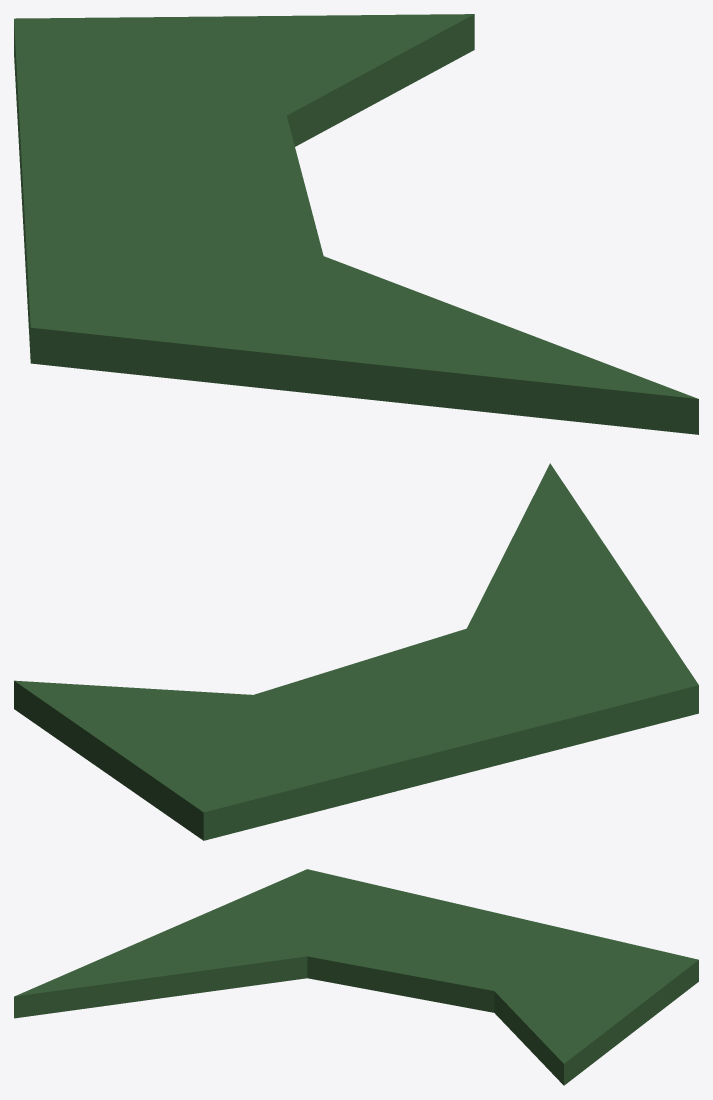
The model's file is x_proval_00_10_1_rmstrd.fbx.
3 views of the same model, one above another, from view 1: azimuth 30°, elevation 25°; view 2: azimuth 150°, elevation 25°; view 3: azimuth 270°, elevation 25° (orthographic). The views are drawn at different scales.
Parts seen in each view (by area): view 1: x_proval_00_10_1_rmstrd1; view 2: x_proval_00_10_1_rmstrd1; view 3: x_proval_00_10_1_rmstrd1.
Boxes of the visible parts, <box> form: x_proval_00_10_1_rmstrd1: <box>14,14,698,434</box>; x_proval_00_10_1_rmstrd1: <box>14,463,698,840</box>; x_proval_00_10_1_rmstrd1: <box>14,869,698,1085</box>.
Size of the model in its own units: 3.82 by 0.2 by 5.67.
